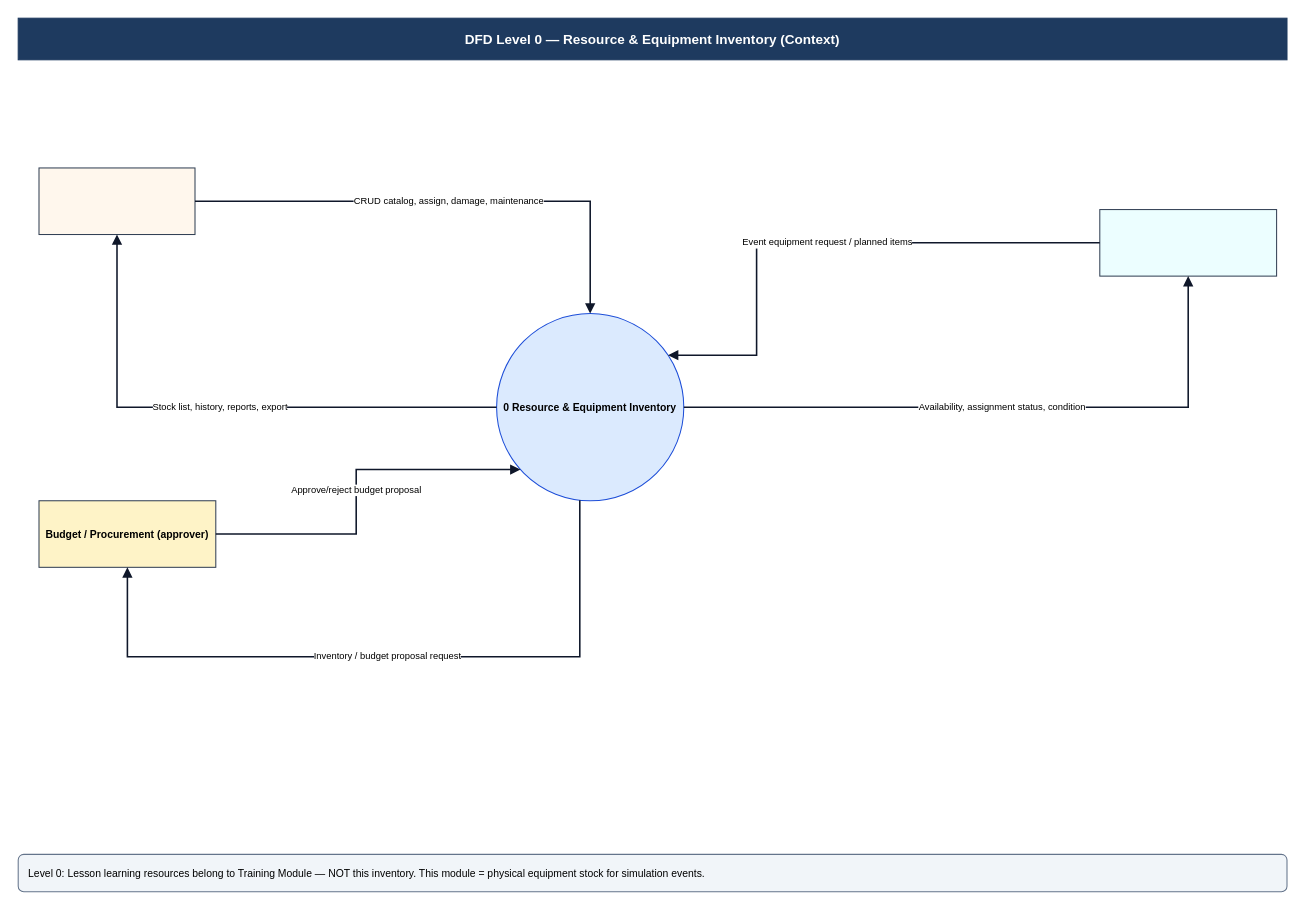
Some shapes in this 1305 by 910 pixel diagram are drawn without their labels. Here are the shapes that lost their labels. From the top down, the centre of each, then its label:
(x=116, y=201): Lead Trainer / LGU Admin
(x=1188, y=242): Simulation Event Planning
